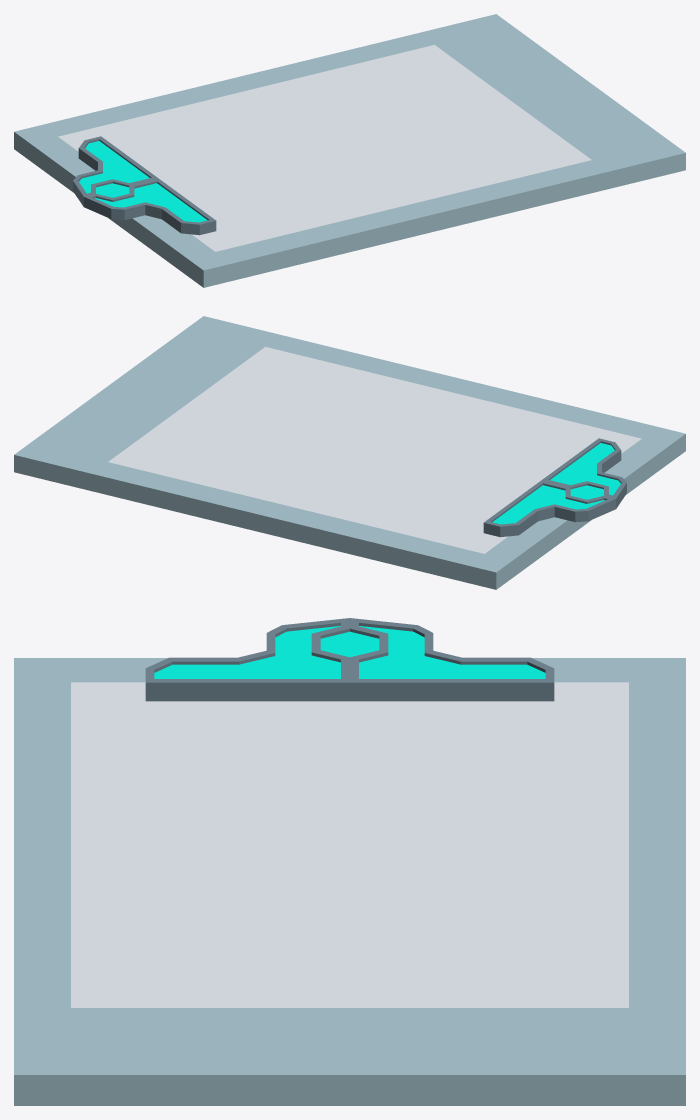
The model's file is clipboard.fbx.
3 views of the same model, one above another, from view 1: azimuth 30°, elevation 25°; view 2: azimuth 150°, elevation 25°; view 3: azimuth 270°, elevation 25° (orthographic). The views are drawn at different scales.
Visible parts, largest first — view 1: clipboard; view 2: clipboard; view 3: clipboard.
Boxes of the visible parts, x1,y1,x2,y2 form: clipboard: (14, 14, 685, 287); clipboard: (14, 316, 685, 589); clipboard: (14, 618, 685, 1105).
Bounding box in the file's own units: 30.47 × 1.6 × 19.73.
